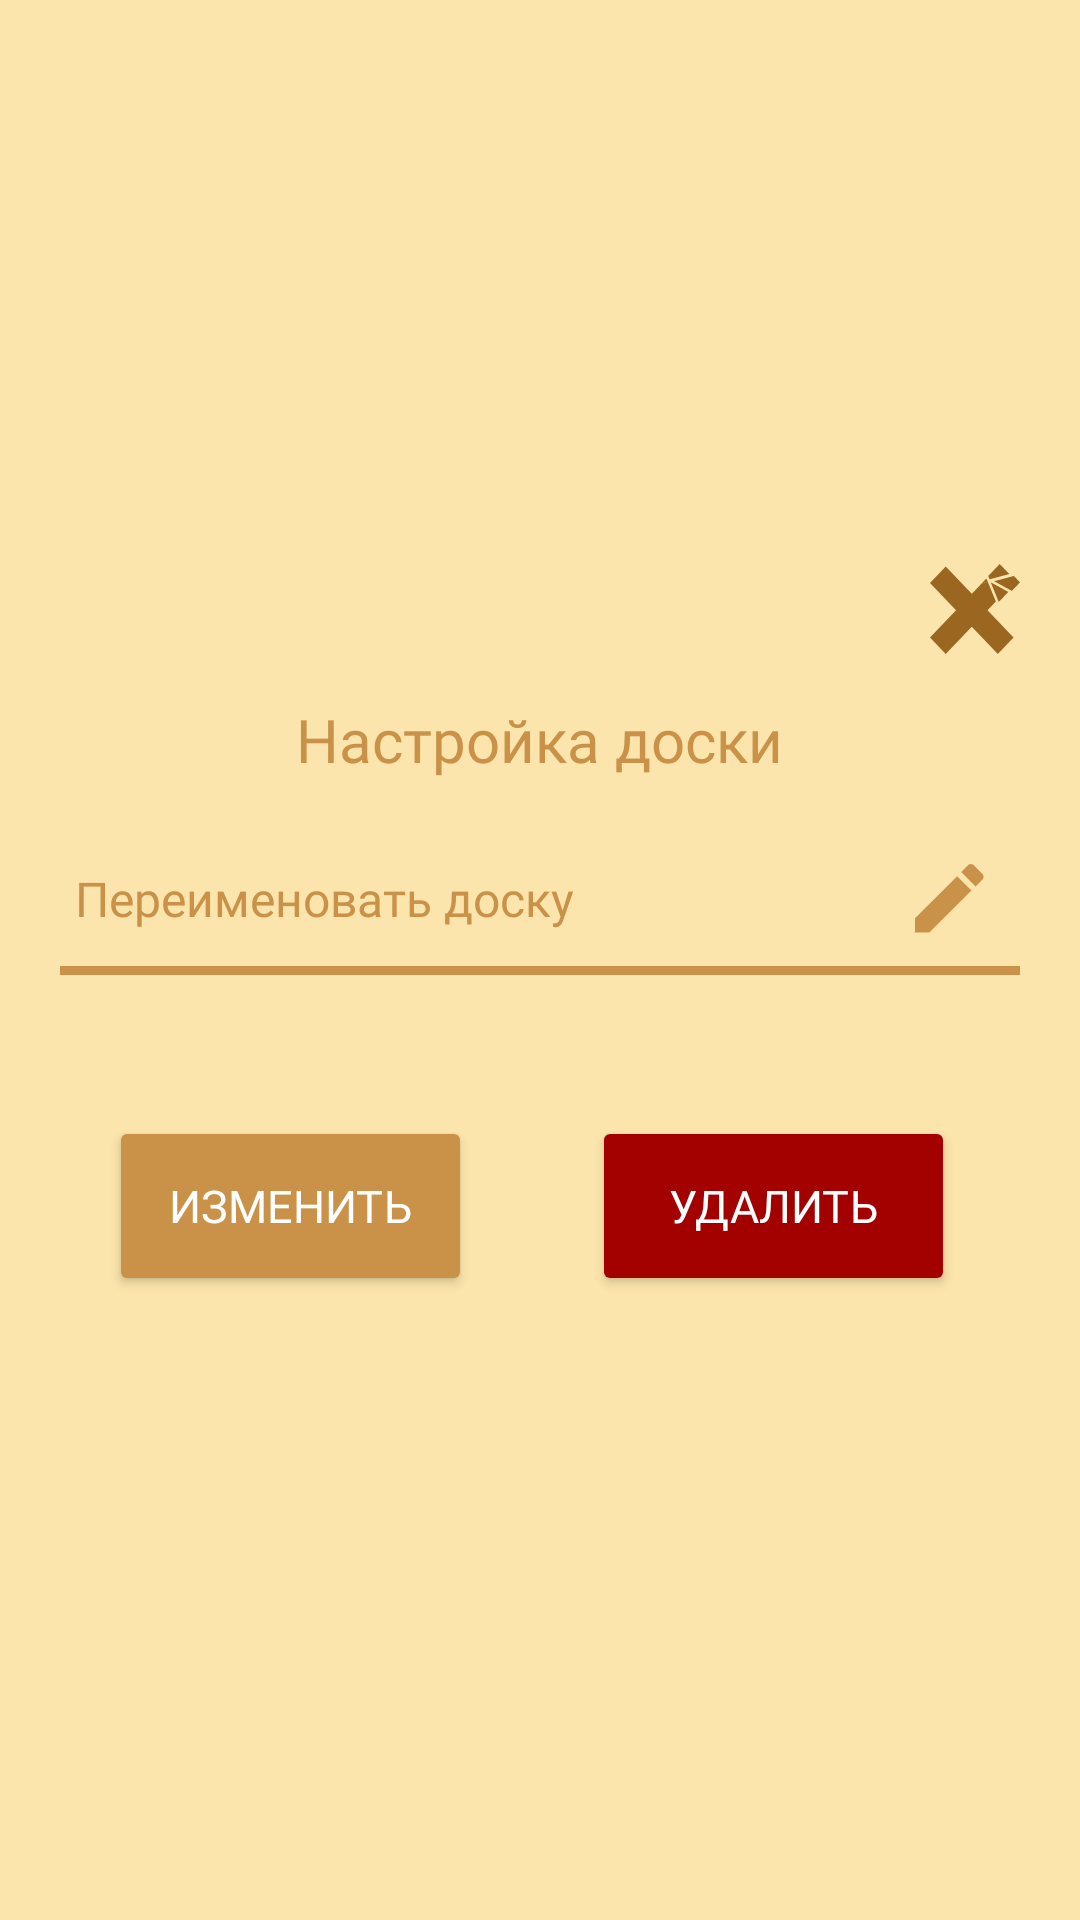

Screen size 1080 × 1920. Icon name, then its center in pixels as (x,y):
close: (975,609)
